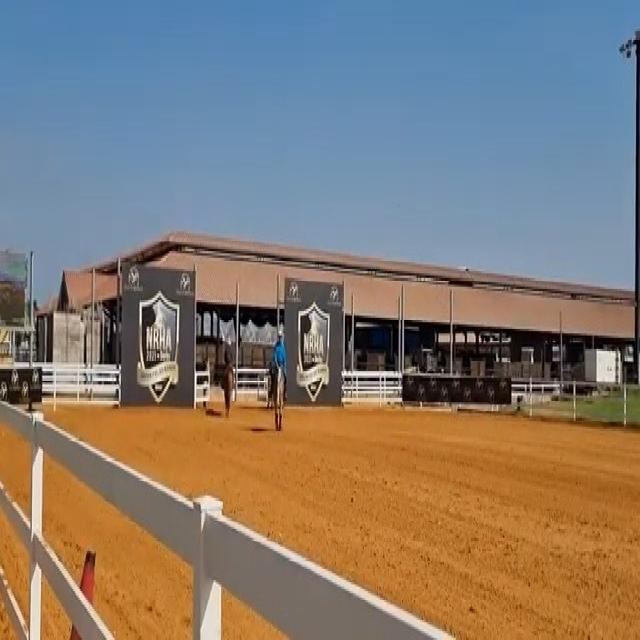horse: (268, 358, 285, 433)
